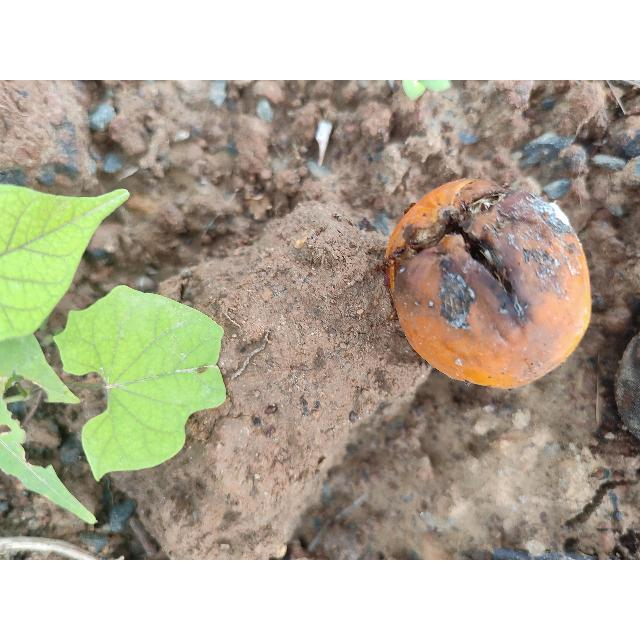damaged: (382, 178, 594, 391)
